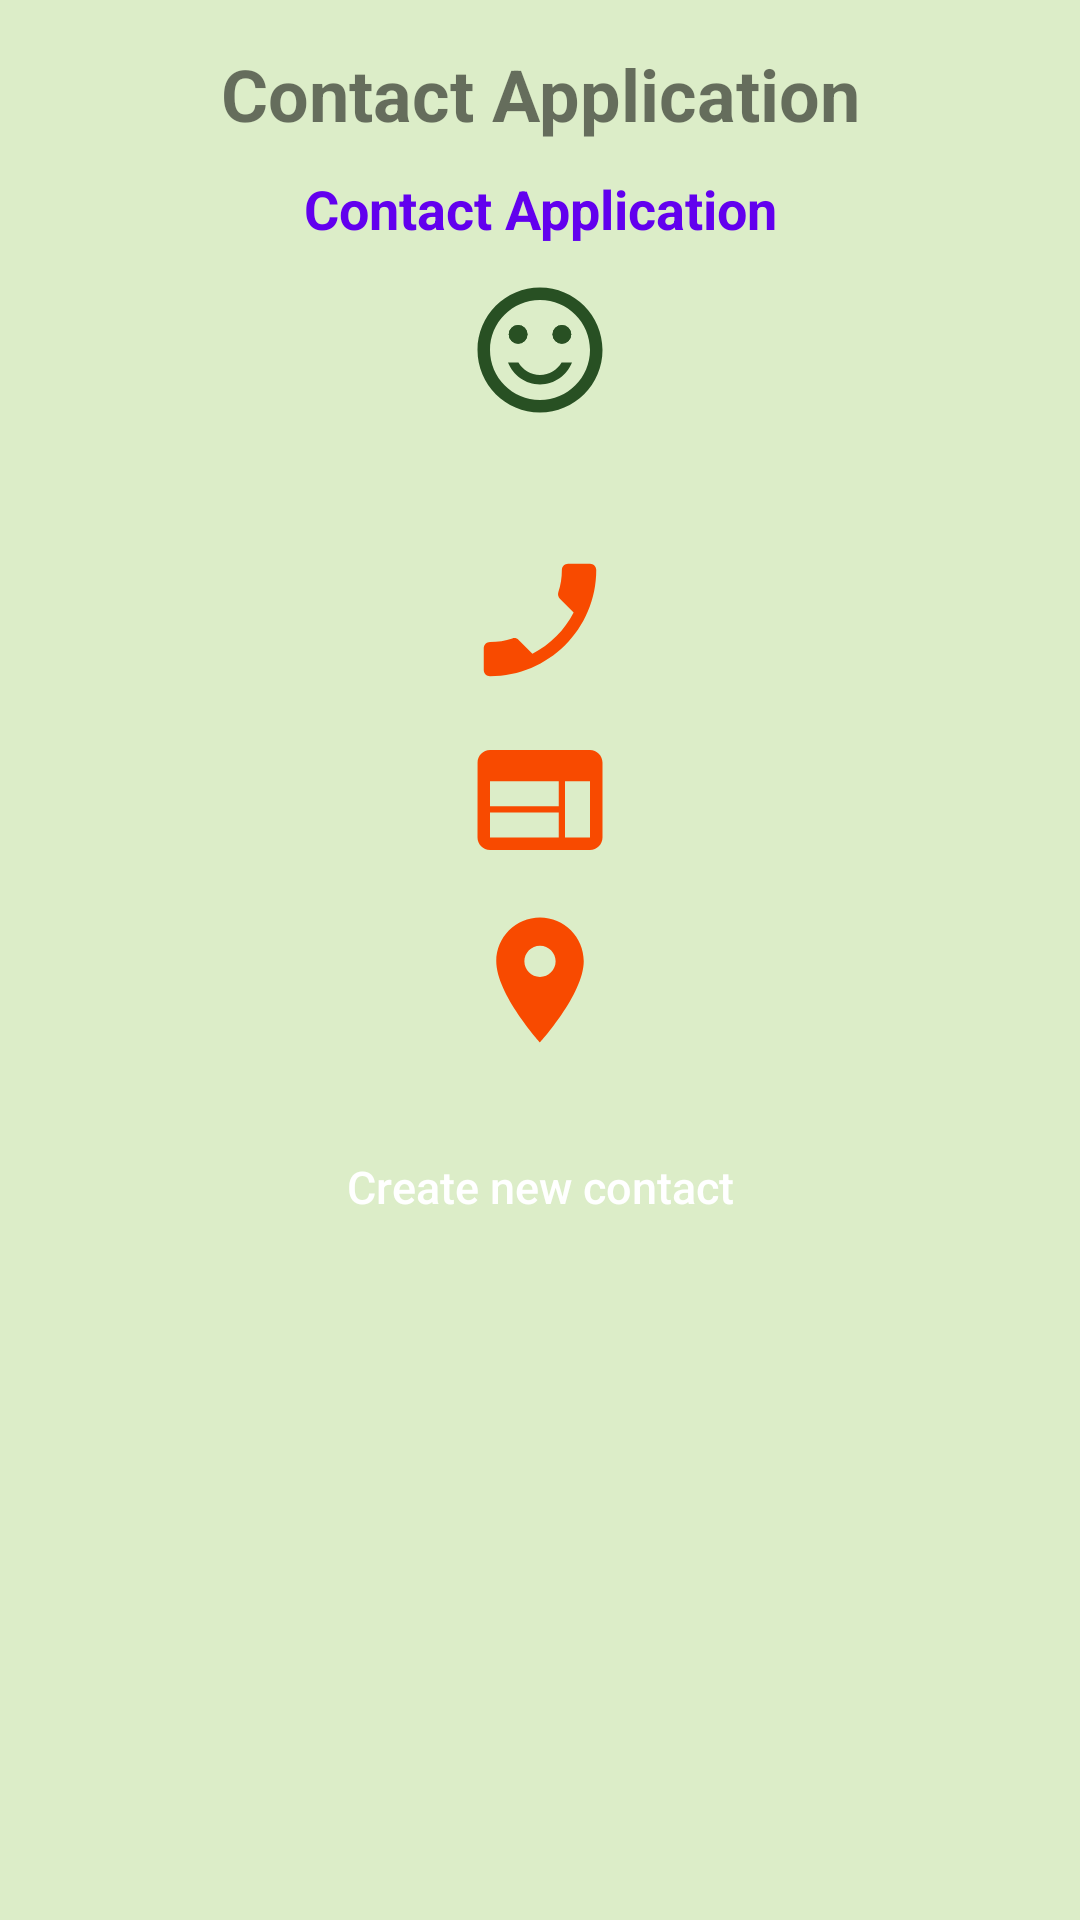

Locate icon controls on the screen. Image size 1080px x 1920px, boxes as (x1, y1, x2, y2).
contact location: (496, 917, 584, 1043)
contact phone number: (483, 563, 597, 677)
contact webpage: (477, 750, 603, 850)
user mood will appear here: (477, 287, 603, 413)
